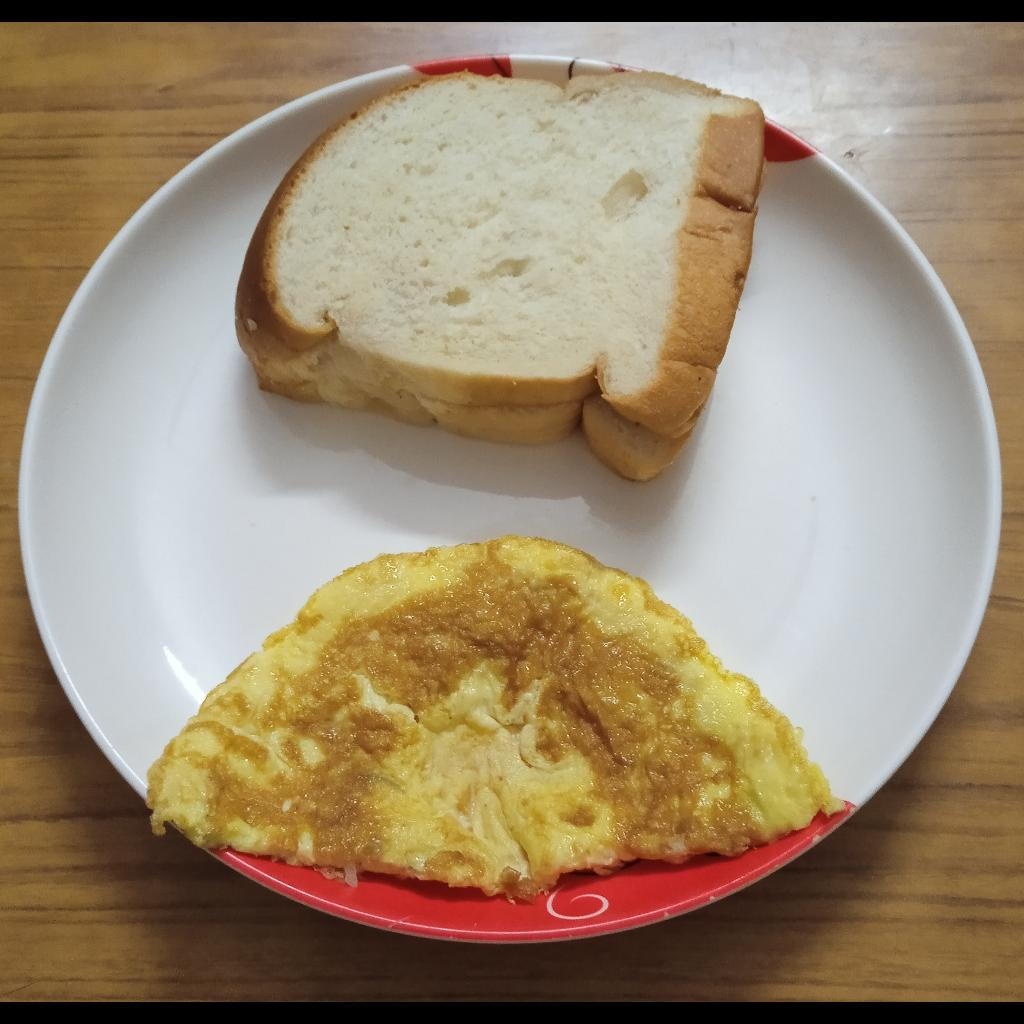bread: (234, 71, 763, 484)
egg-poached: (142, 533, 845, 904)
